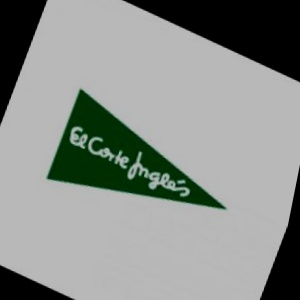corte_ingles: (216, 77, 286, 188)
